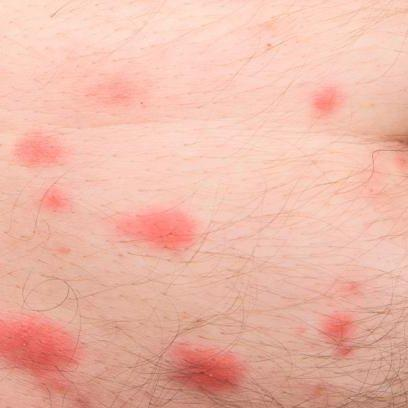Fleas: (0, 298, 90, 394), (165, 341, 247, 399), (116, 208, 196, 250), (316, 288, 359, 356), (296, 76, 351, 127), (81, 71, 142, 112), (12, 129, 71, 167), (38, 184, 77, 219)
